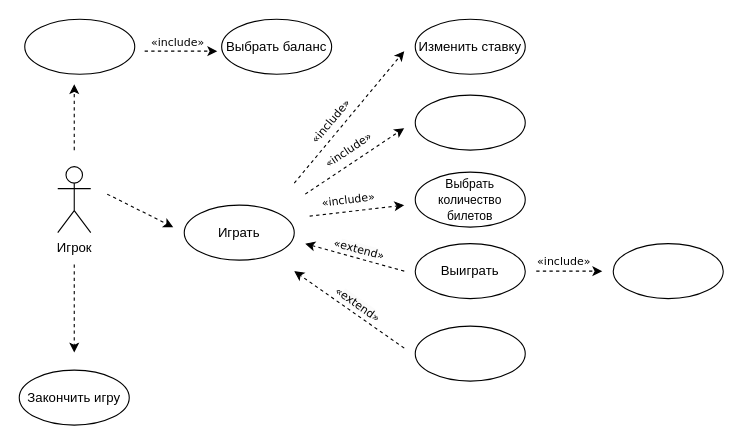
This 743x444 diagram has some shape labels left out. The box of each missing label's shape, as (x1, y1, x2, y2) in pixels:
Выбрать ячейки: (414, 94, 525, 150)
Забрать выигрыш: (612, 243, 723, 299)
Начать игру: (24, 18, 135, 74)
Проиграть: (414, 325, 525, 381)
